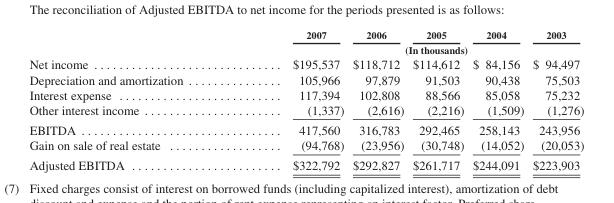table: (28, 28, 583, 172)
table column: (28, 28, 237, 172), (237, 28, 347, 172), (347, 28, 407, 172), (407, 28, 467, 172), (467, 28, 527, 172), (527, 28, 583, 172)
table column header: (28, 28, 583, 56)
table row: (28, 119, 583, 137), (28, 137, 583, 155), (28, 102, 583, 119), (28, 155, 583, 172), (28, 86, 583, 102), (28, 56, 583, 71), (28, 71, 583, 86), (28, 28, 583, 42), (28, 42, 583, 56)
table spanning cell: (237, 42, 583, 56)
